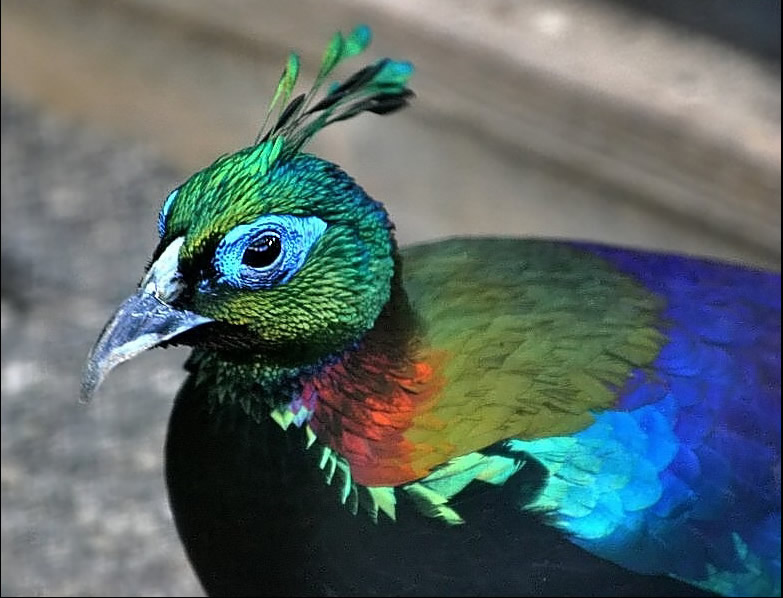bird: (74, 25, 783, 598)
